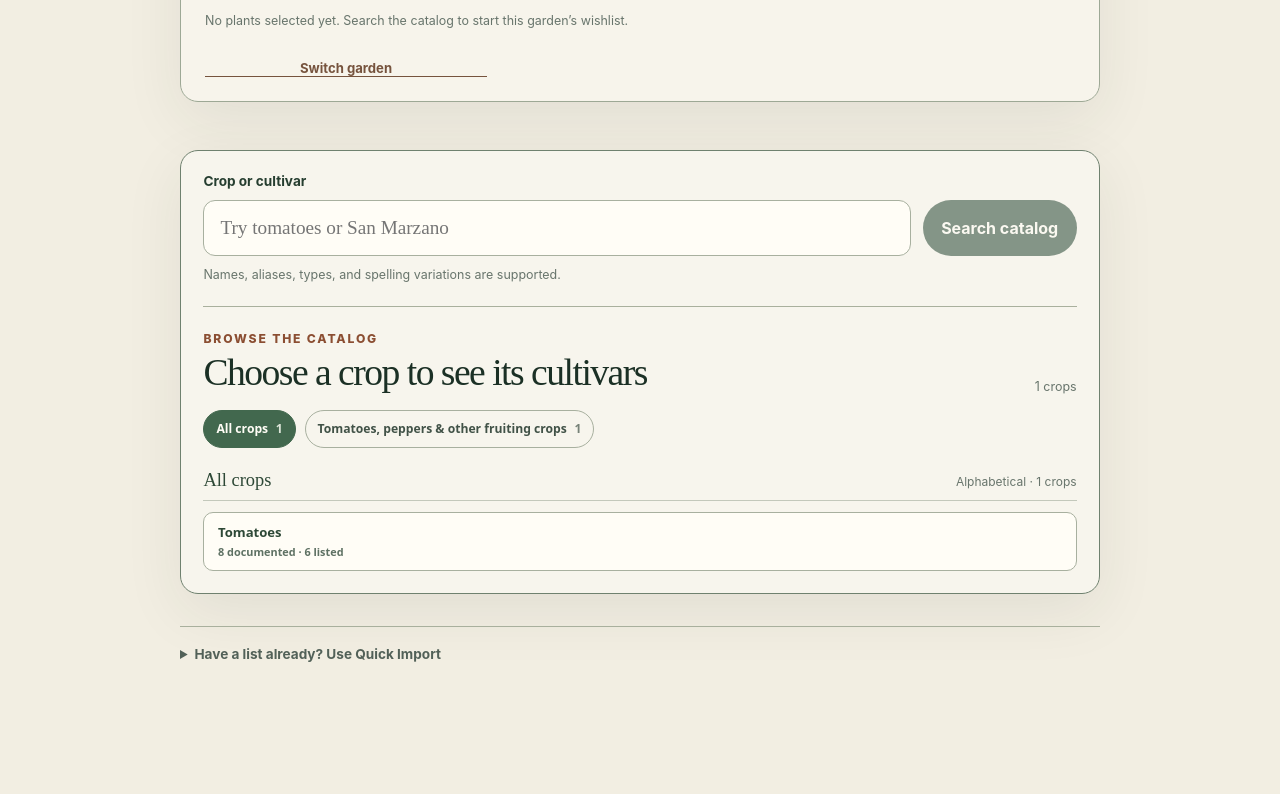
Test: catalog browse workflow › searches from browse, adds the crop, and returns to all crops when cleared
(page scrolled)
Click the button with aria-label "Tomatoes, 8 documented · 6 listed".
click(250, 532)  # box [203,512,1077,571]
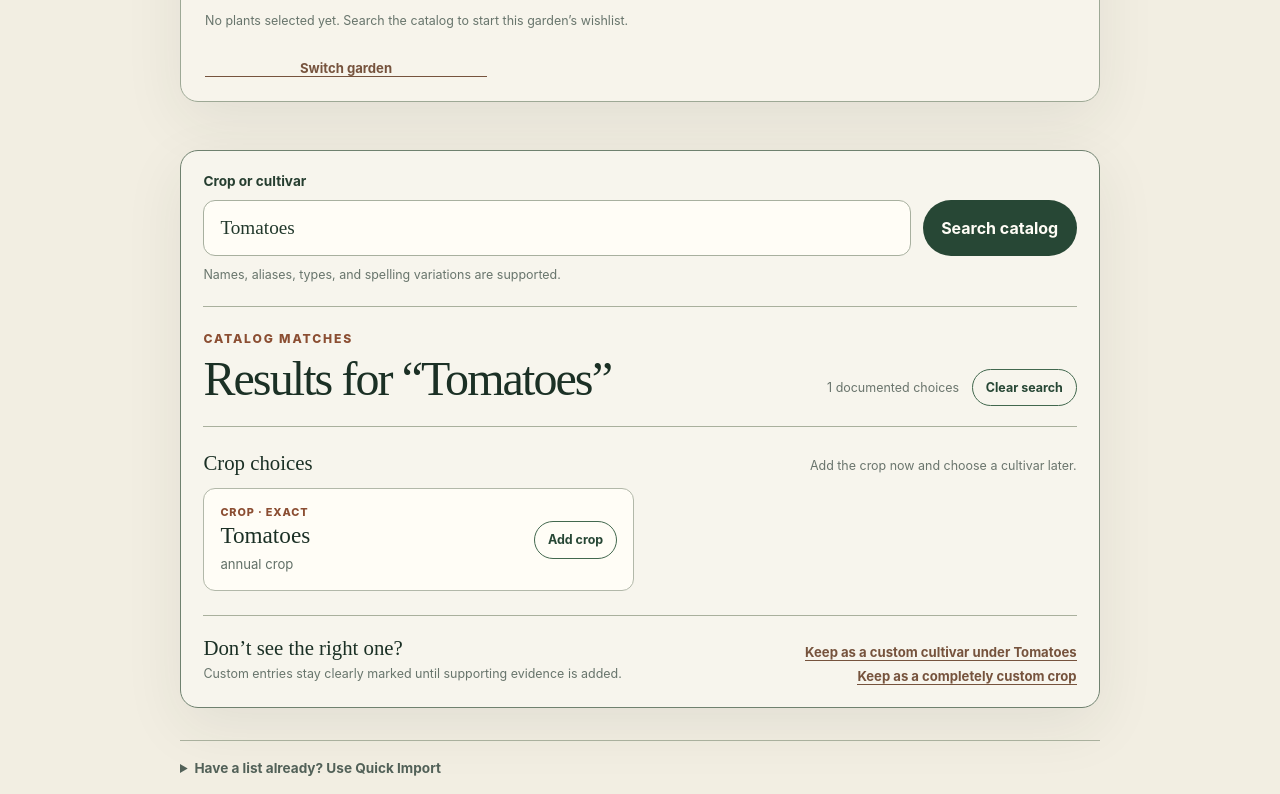
Now the heading "Results for “Tomatoes”" is shown, box [203,351,611,406]
Click the button "Add crop".
click(576, 540)  # box [534,521,617,559]
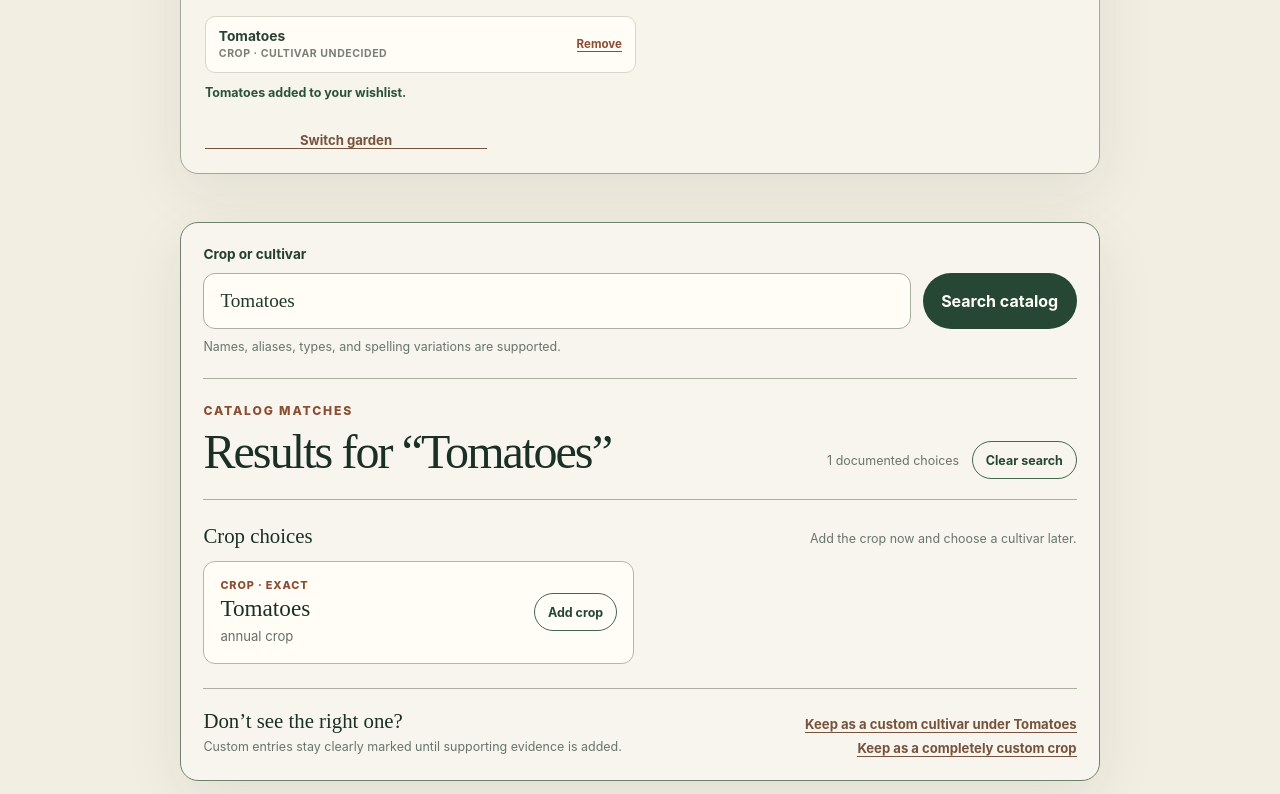
Now the text "Tomatoes added to your wishlist." is shown, box [205,85,406,100]
Now the button with aria-label "Remove Tomatoes" is shown, box [577,37,622,52]
Click the button "Clear search".
click(1024, 460)  # box [972,441,1077,479]
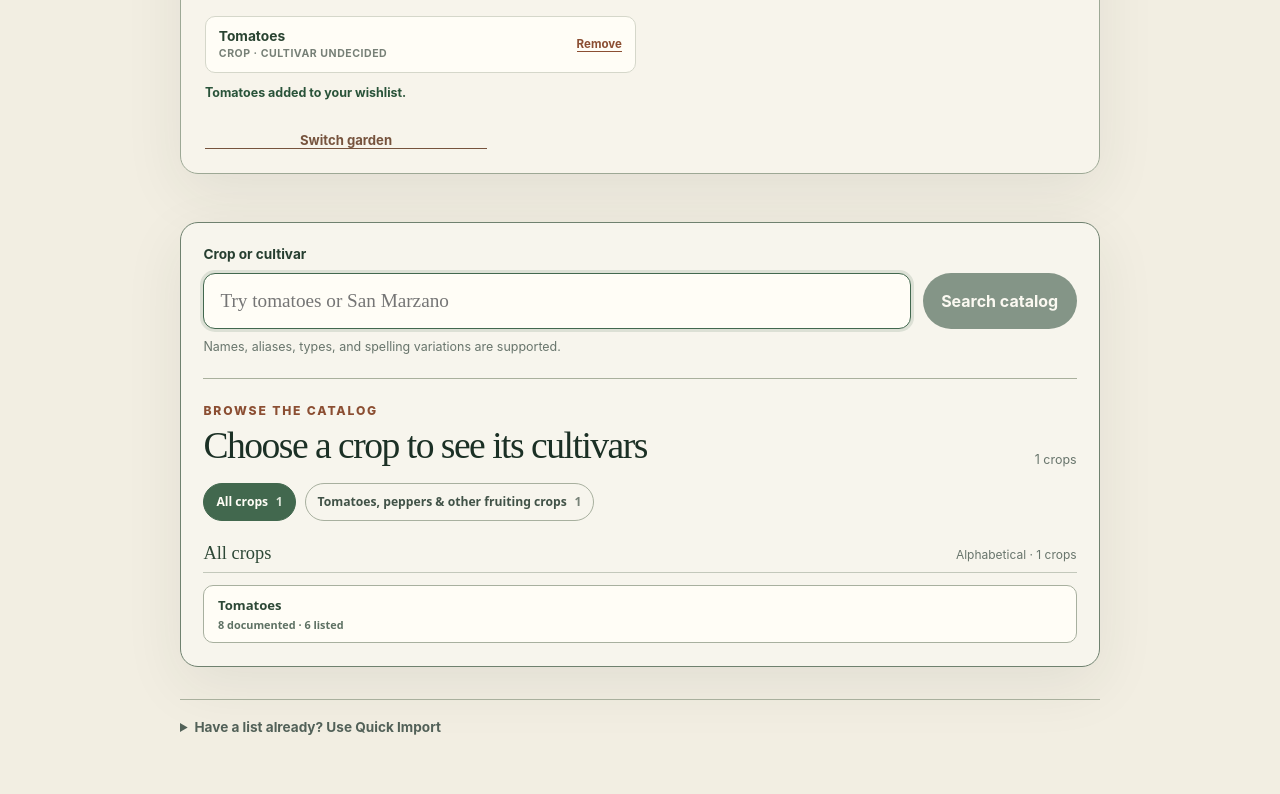
Now the heading "Choose a crop to see its cultivars" is shown, box [203,424,647,467]
